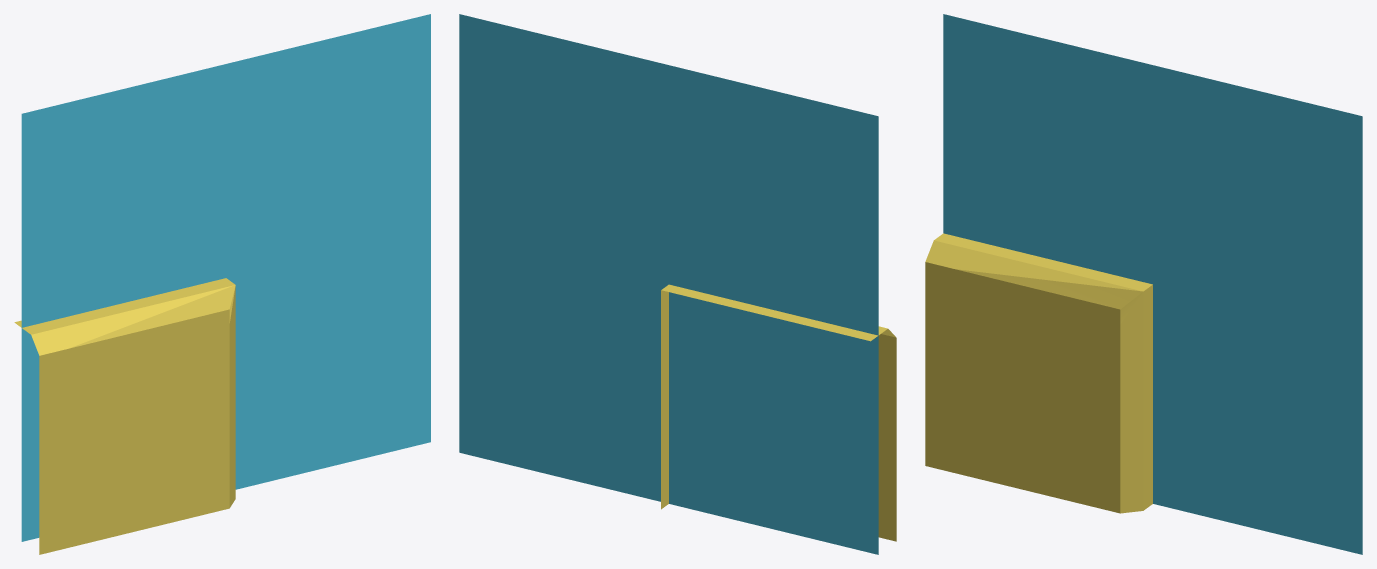
File: water3outer.glb
The picture shows the model from 3 angles, left to right: view 1: azimuth 30°, elevation 25°; view 2: azimuth 150°, elevation 25°; view 3: azimuth 330°, elevation 25°; orthographic projection. The views are drawn at different scales.
Visible parts, largest first — view 1: Plane.002, Plane.001; view 2: Plane.002, Plane.001; view 3: Plane.002, Plane.001.
Part boxes in pixels (x1,y1,x2,y2): Plane.002: (21,14,430,541); Plane.001: (14,278,235,554); Plane.002: (459,14,878,554); Plane.001: (661,284,896,541); Plane.002: (943,14,1362,554); Plane.001: (925,233,1152,513).
Size of the model in its own units: 1 by 1 by 0.107.
